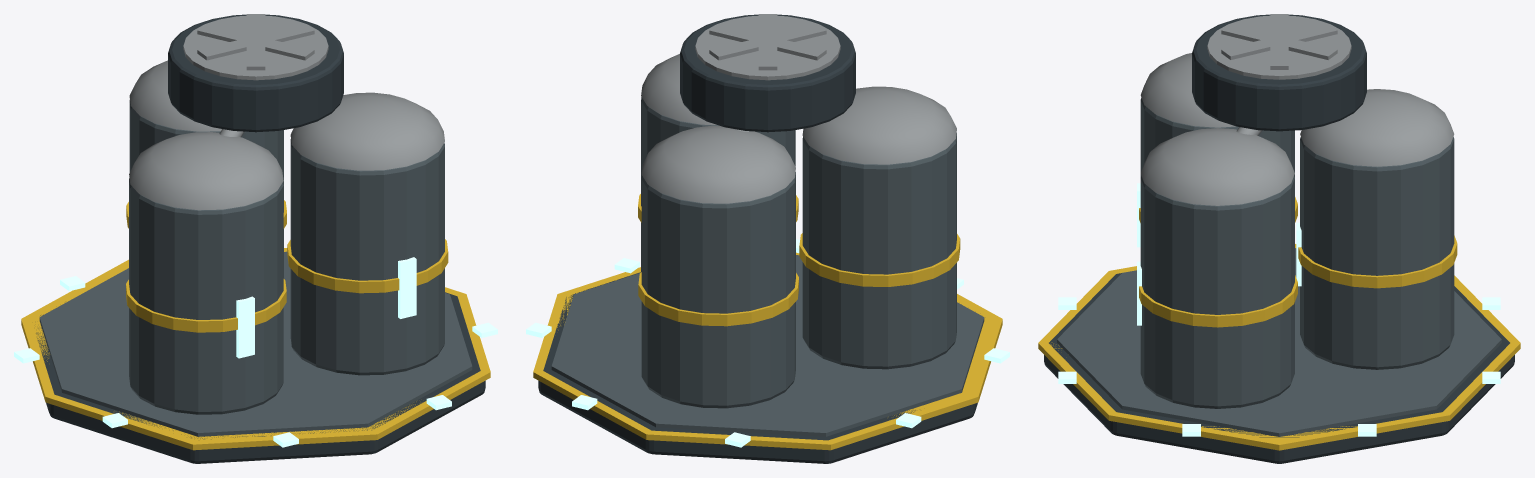
Rendered from oxygen_plant.fbx.
The picture shows the model from 3 angles, left to right: view 1: azimuth 30°, elevation 25°; view 2: azimuth 150°, elevation 25°; view 3: azimuth 270°, elevation 25°; orthographic projection.
Parts seen in each view (by area): view 1: oxygen_plant, ANIM_spin_z_240__blade0; view 2: oxygen_plant, ANIM_spin_z_240__blade0; view 3: oxygen_plant, ANIM_spin_z_240__blade0.
Boxes of the visible parts, box(x1,y1,x2,y2) form: oxygen_plant: box(14, 14, 497, 463); ANIM_spin_z_240__blade0: box(197, 14, 314, 70); oxygen_plant: box(526, 14, 1009, 463); ANIM_spin_z_240__blade0: box(709, 14, 826, 70); oxygen_plant: box(1038, 14, 1520, 463); ANIM_spin_z_240__blade0: box(1221, 14, 1337, 69).
Bounding box in the file's own units: 4.69 × 3.5 × 4.69.
